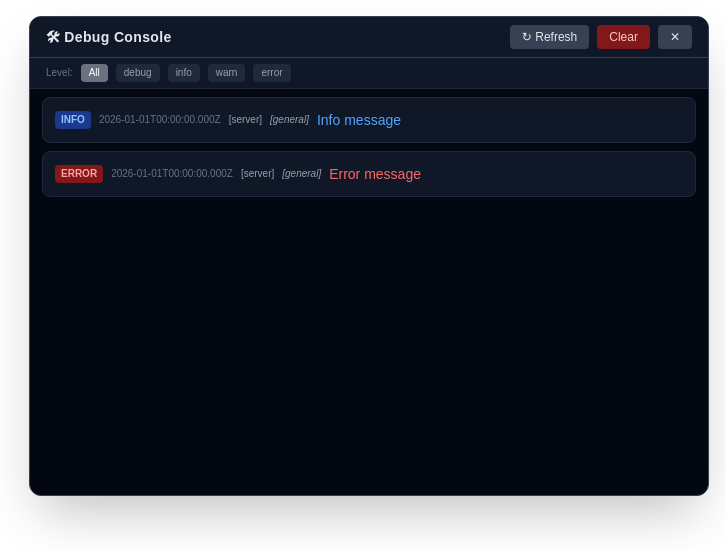
Test case: DebugPanel — level filter › shows all entries when the "All" filter is selected after a level filter
Expected: the text "Info message" is shown, [317,112,401,128]
Click the button with aria-label "filter by error" at (272, 73), box [253,64,290,82]
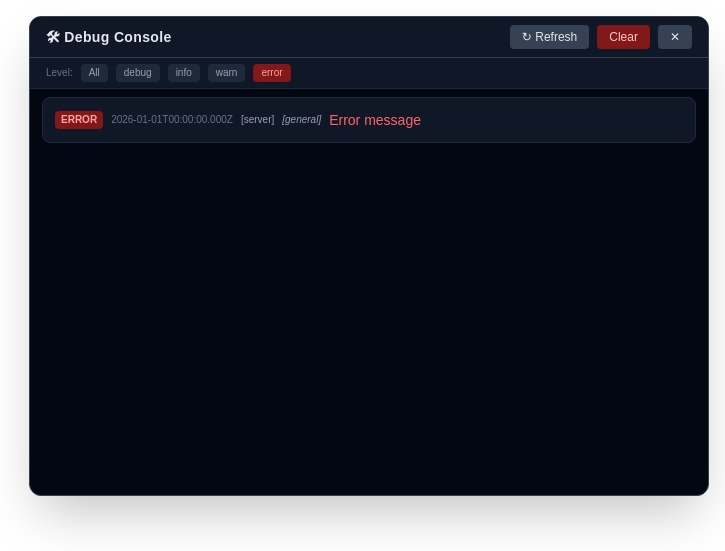
Now the text "Info message" is gone
Click the button with aria-label "show all levels" at (94, 73), box [81,64,108,82]
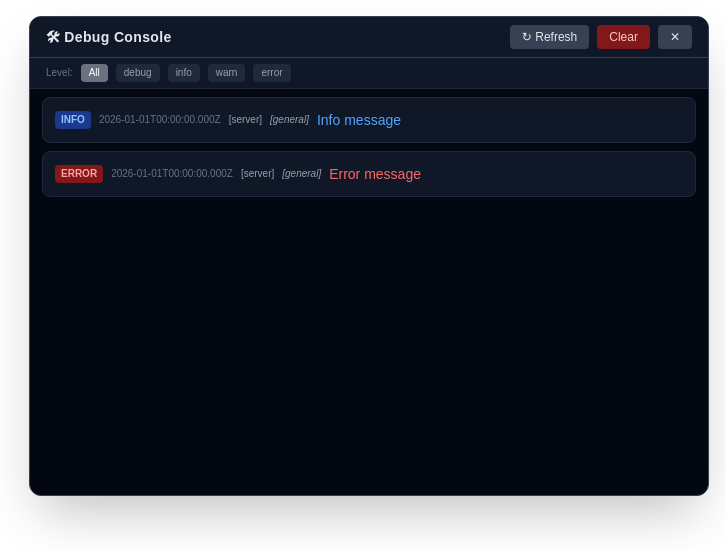
Expected: the text "Error message" is shown, [329,166,421,182]
Now the text "Info message" is shown, box [317,112,401,128]
